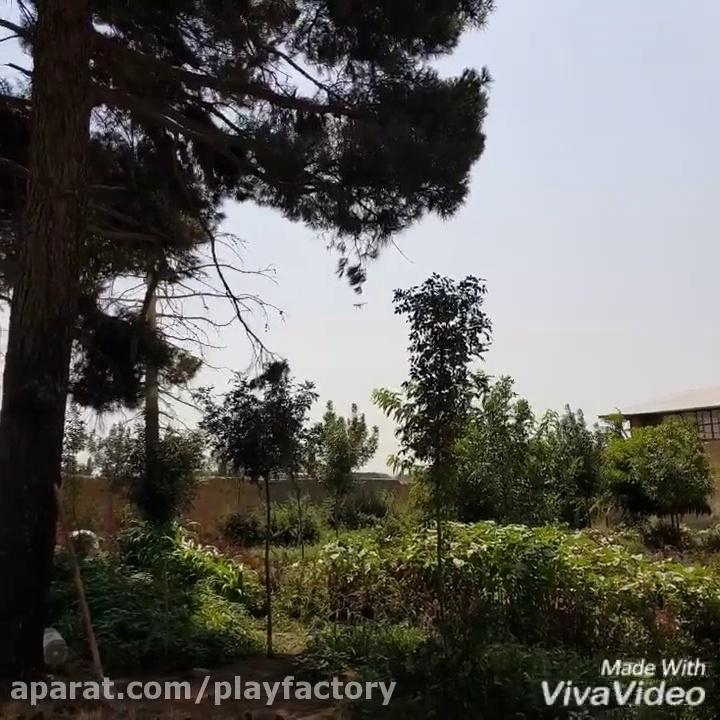drone: (350, 296, 369, 310)
